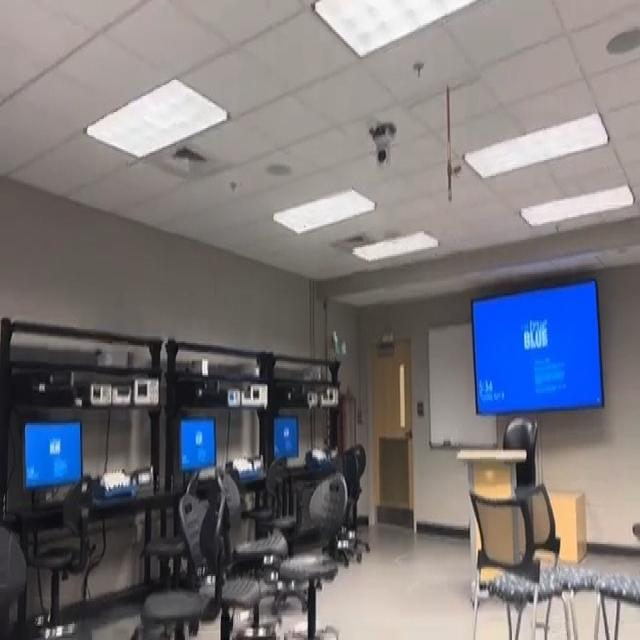drone: (321, 312, 355, 366)
